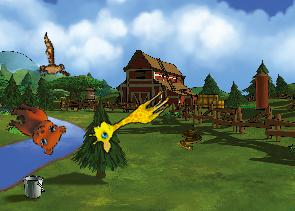bear: (1, 99, 69, 158)
eagle: (22, 32, 80, 90)
giraffe: (84, 79, 174, 157)
